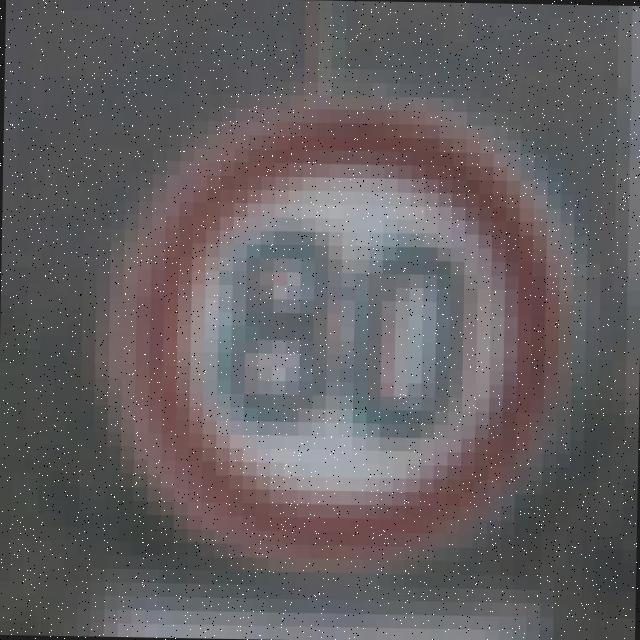Ograniczenie predkosci do 80: (142, 109, 562, 568)
